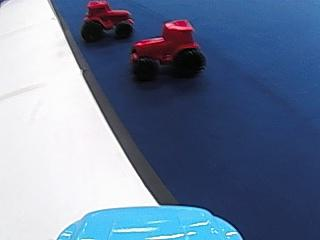Tracktor: (127, 16, 206, 81), (81, 0, 135, 43)
